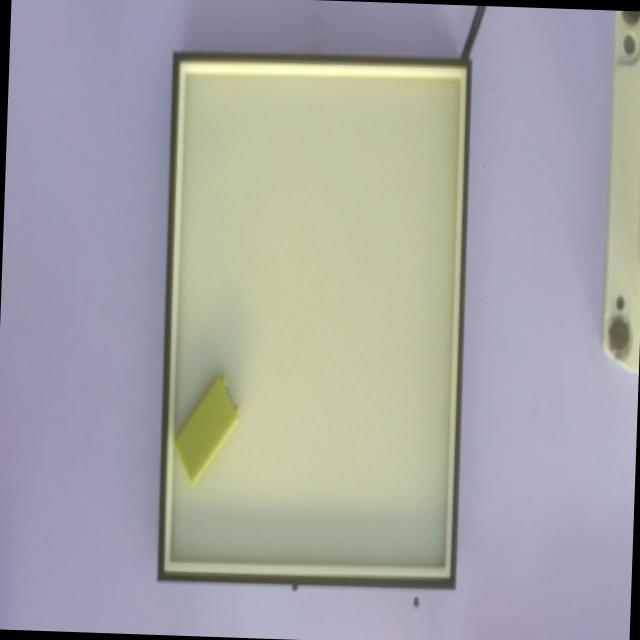bateria: (170, 373, 239, 490)
mesa: (157, 51, 472, 590)
